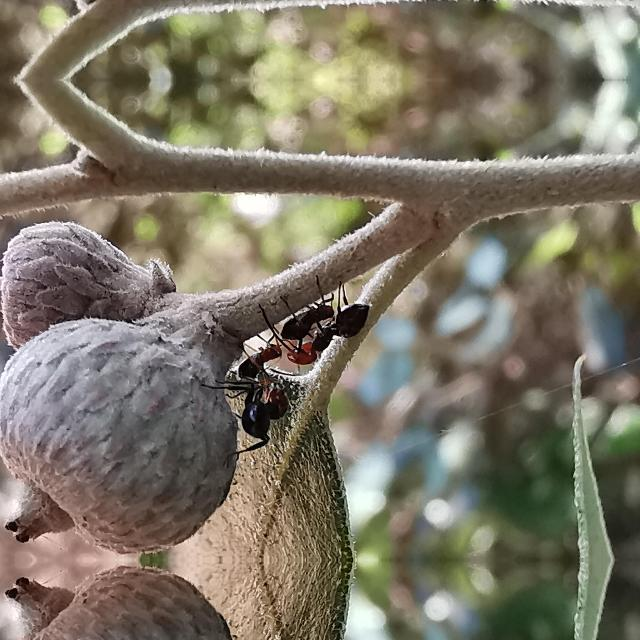Crematogaster: (297, 294, 369, 370)
